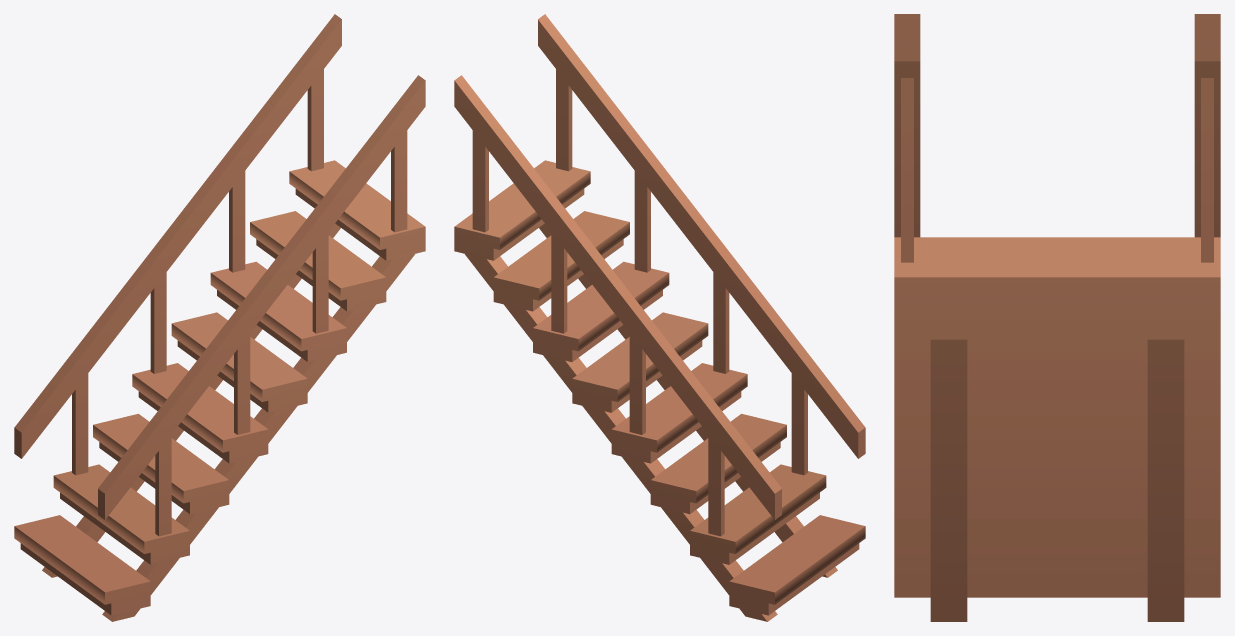
The model's file is stairs-wood-handrail.glb.
3 views of the same model, side by side, from view 1: azimuth 30°, elevation 25°; view 2: azimuth 150°, elevation 25°; view 3: azimuth 270°, elevation 25° (orthographic). The views are drawn at different scales.
Visible parts, largest first — view 1: stairs-wood-handrail; view 2: stairs-wood-handrail; view 3: stairs-wood-handrail.
Boxes of the visible parts, <box> form: stairs-wood-handrail: <box>14,14,425,621</box>; stairs-wood-handrail: <box>454,14,865,621</box>; stairs-wood-handrail: <box>894,14,1220,621</box>.
Bounding box in the file's own units: 1.02 × 1.45 × 0.5.
1 material, 1 textured.
